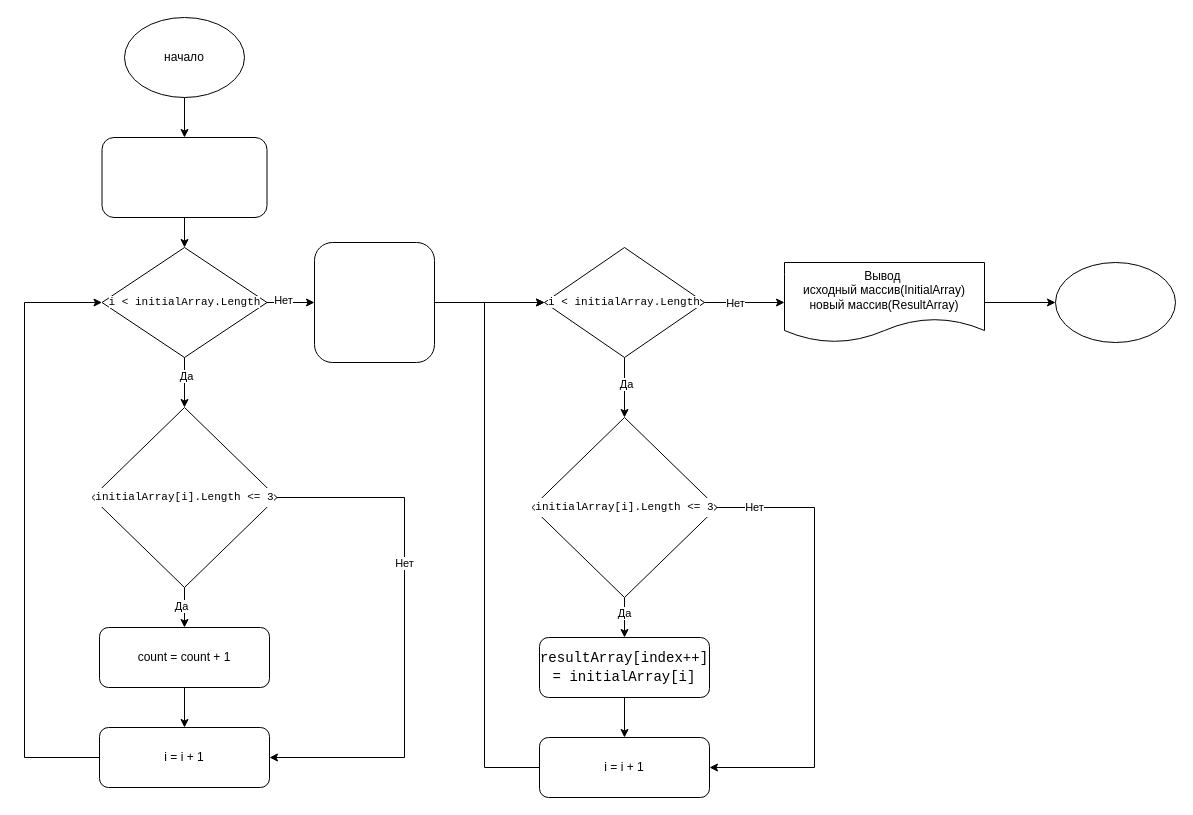
Some shapes in this 1193 by 815 pixel diagram are drawn without their labels. Here are the shapes that lost their labels. From the top down, the box of each, then its label:
(101, 136, 267, 218): InitialArray = ["Hello" , "2" , "world" , ":-)"] count = 0 i = 0 index = 0
(314, 242, 434, 362): i = 0 string[] resultArray = new string [ count ]
(1054, 262, 1176, 342): Конец
